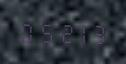five: (36, 19, 53, 43)
one: (72, 20, 89, 44)
three: (90, 20, 107, 44)
two: (54, 19, 71, 44)
zero: (18, 19, 35, 43)
